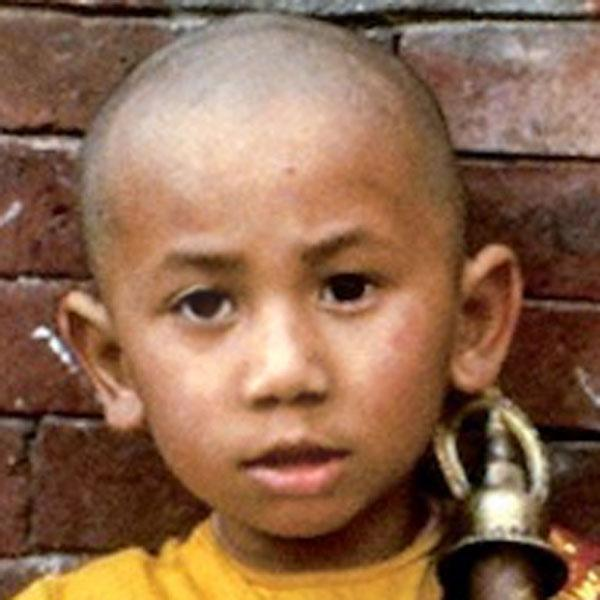Eyes: (160, 273, 249, 331), (308, 261, 394, 321)
